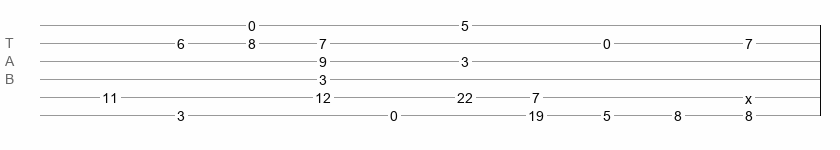0: (248, 18, 256, 28), (390, 108, 398, 118), (603, 36, 611, 46)
11: (102, 90, 118, 100)
12: (315, 90, 331, 100)
19: (528, 108, 544, 118)
22: (457, 90, 473, 100)
3: (177, 108, 185, 118), (319, 72, 327, 82), (461, 54, 469, 64)
5: (461, 18, 469, 28), (603, 108, 611, 118)
6: (177, 36, 185, 46)
7: (319, 36, 327, 46), (532, 90, 540, 100), (745, 36, 753, 46)
8: (248, 36, 256, 46), (674, 108, 682, 118), (745, 108, 753, 118)
9: (319, 54, 327, 64)
x: (745, 91, 752, 99)
